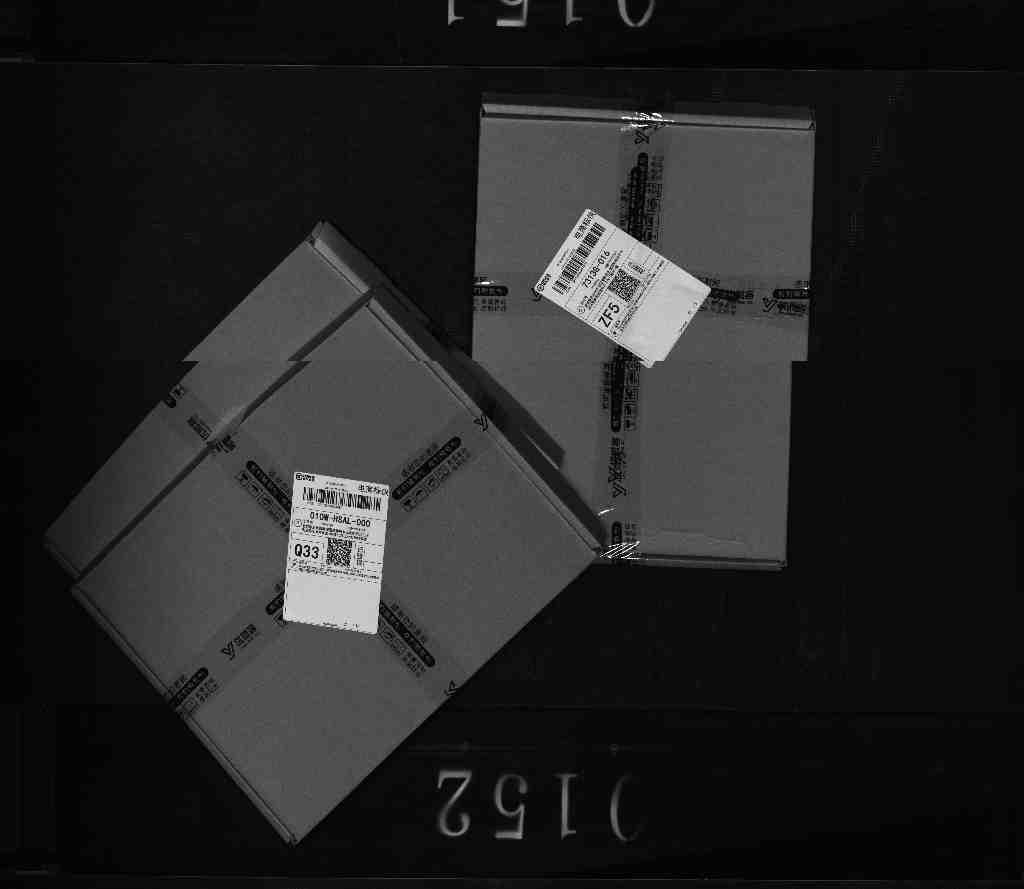box: (35, 218, 583, 849), (446, 82, 826, 579)
